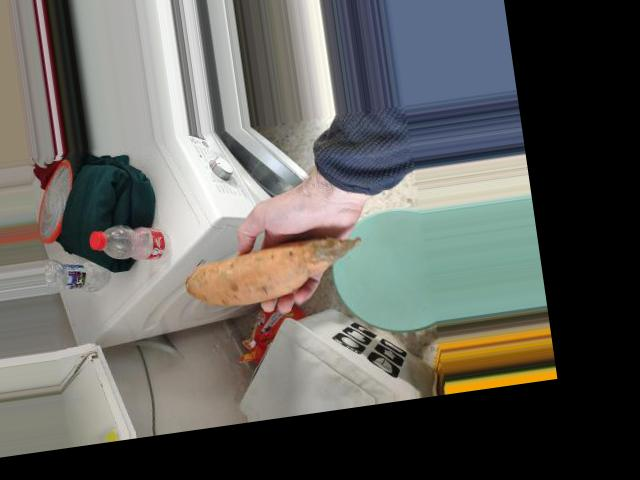sweet_potato: (185, 237, 342, 316)
